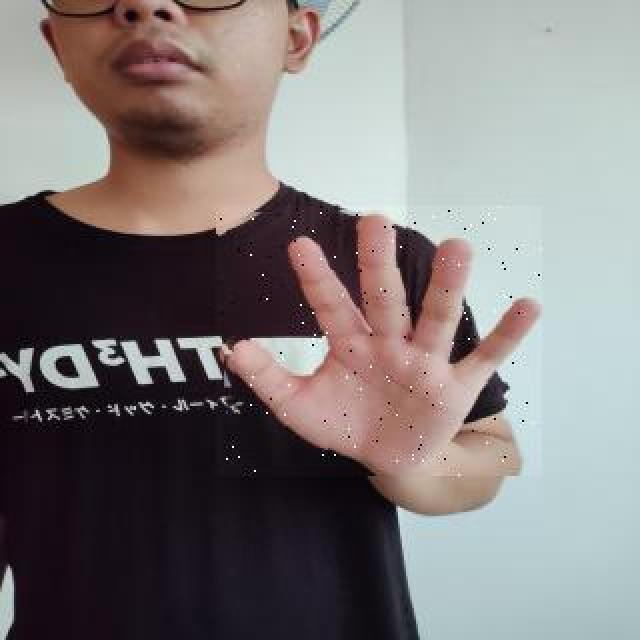hand: (216, 206, 542, 476)
